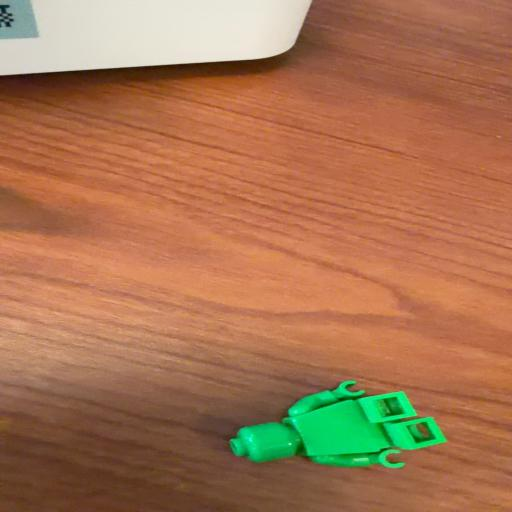UnoQ-minifig-detector: (229, 380, 447, 468)
